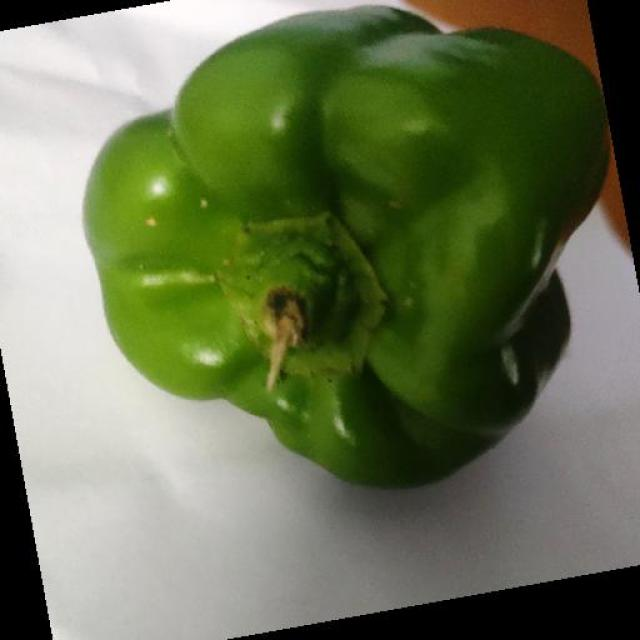Fresh_Capsicum: (85, 28, 596, 461)
